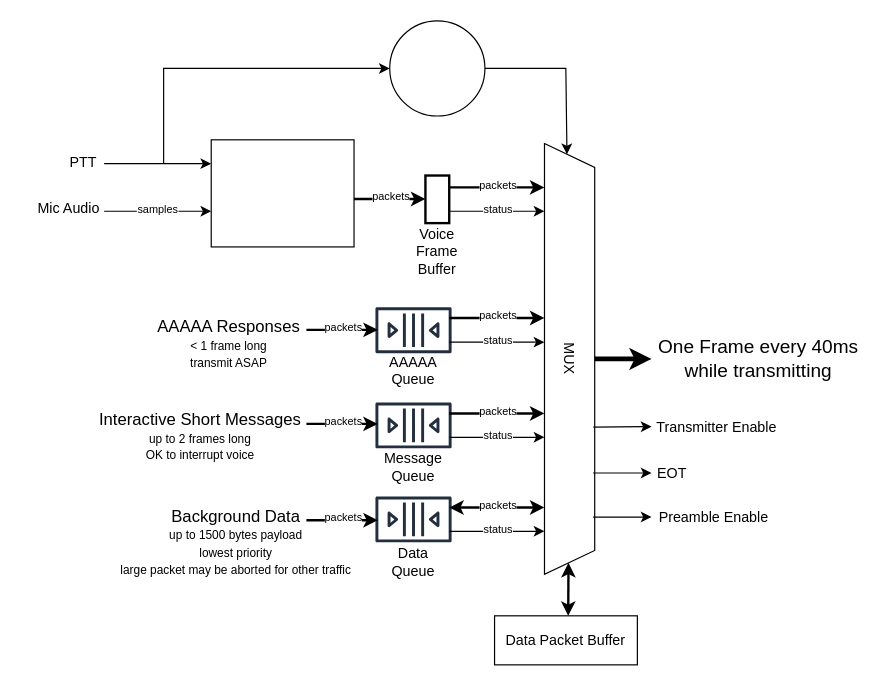
Some shapes in this 885 by 687 pixel diagram are drawn without their labels. Each missing label, with the centre of its shape:
"40ms frame timer" goes at pixel 437 68.
"Audio Framer + Opus voice encoder" goes at pixel 282 193.
